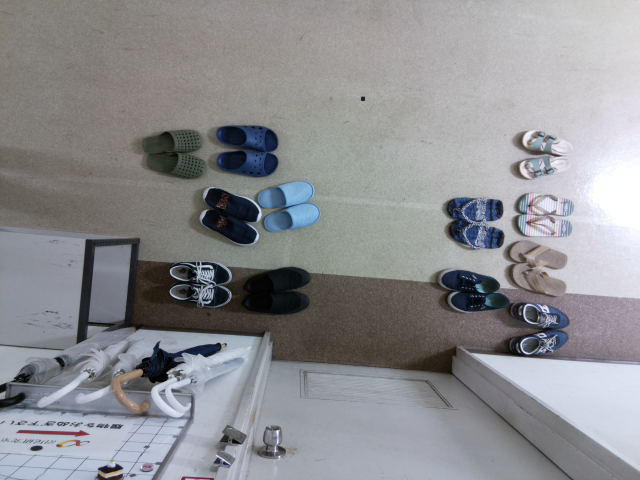Copy of Copy of Copy of Copy of Copy of Copy of Copy of Copy of Copy of Copy of: (201, 180, 265, 224), (197, 207, 261, 251), (507, 260, 575, 300), (439, 190, 508, 225), (435, 263, 504, 298), (442, 284, 511, 319), (508, 295, 577, 330), (259, 199, 328, 234), (503, 238, 576, 271), (439, 219, 508, 253), (506, 327, 575, 361), (249, 176, 318, 210), (509, 212, 581, 242), (510, 187, 581, 217)
Copy of Copy of Copy of Copy of Copy of Copy of Copy of Copy of Copy of shoe: (510, 152, 581, 182)
Copy of Copy of Copy of Copy of Copy of Copy of Copy of Copy of shoe: (510, 126, 581, 156)
Copy of Copy of Copy of Copy of Copy of Copy of Copy of shoe: (243, 289, 314, 319)
Copy of Copy of Copy of Copy of Copy of Copy of shoe: (242, 262, 314, 292)
Copy of Copy of Copy of Copy of Copy of shoe: (163, 282, 234, 312)
Copy of Copy of Copy of Copy of shoe: (164, 257, 235, 287)
Copy of Copy of Copy of shoe: (139, 147, 211, 178)
Copy of Copy of shoe: (212, 147, 283, 177)
Copy of shoe: (211, 121, 283, 151)
shoe: (135, 126, 206, 156)
